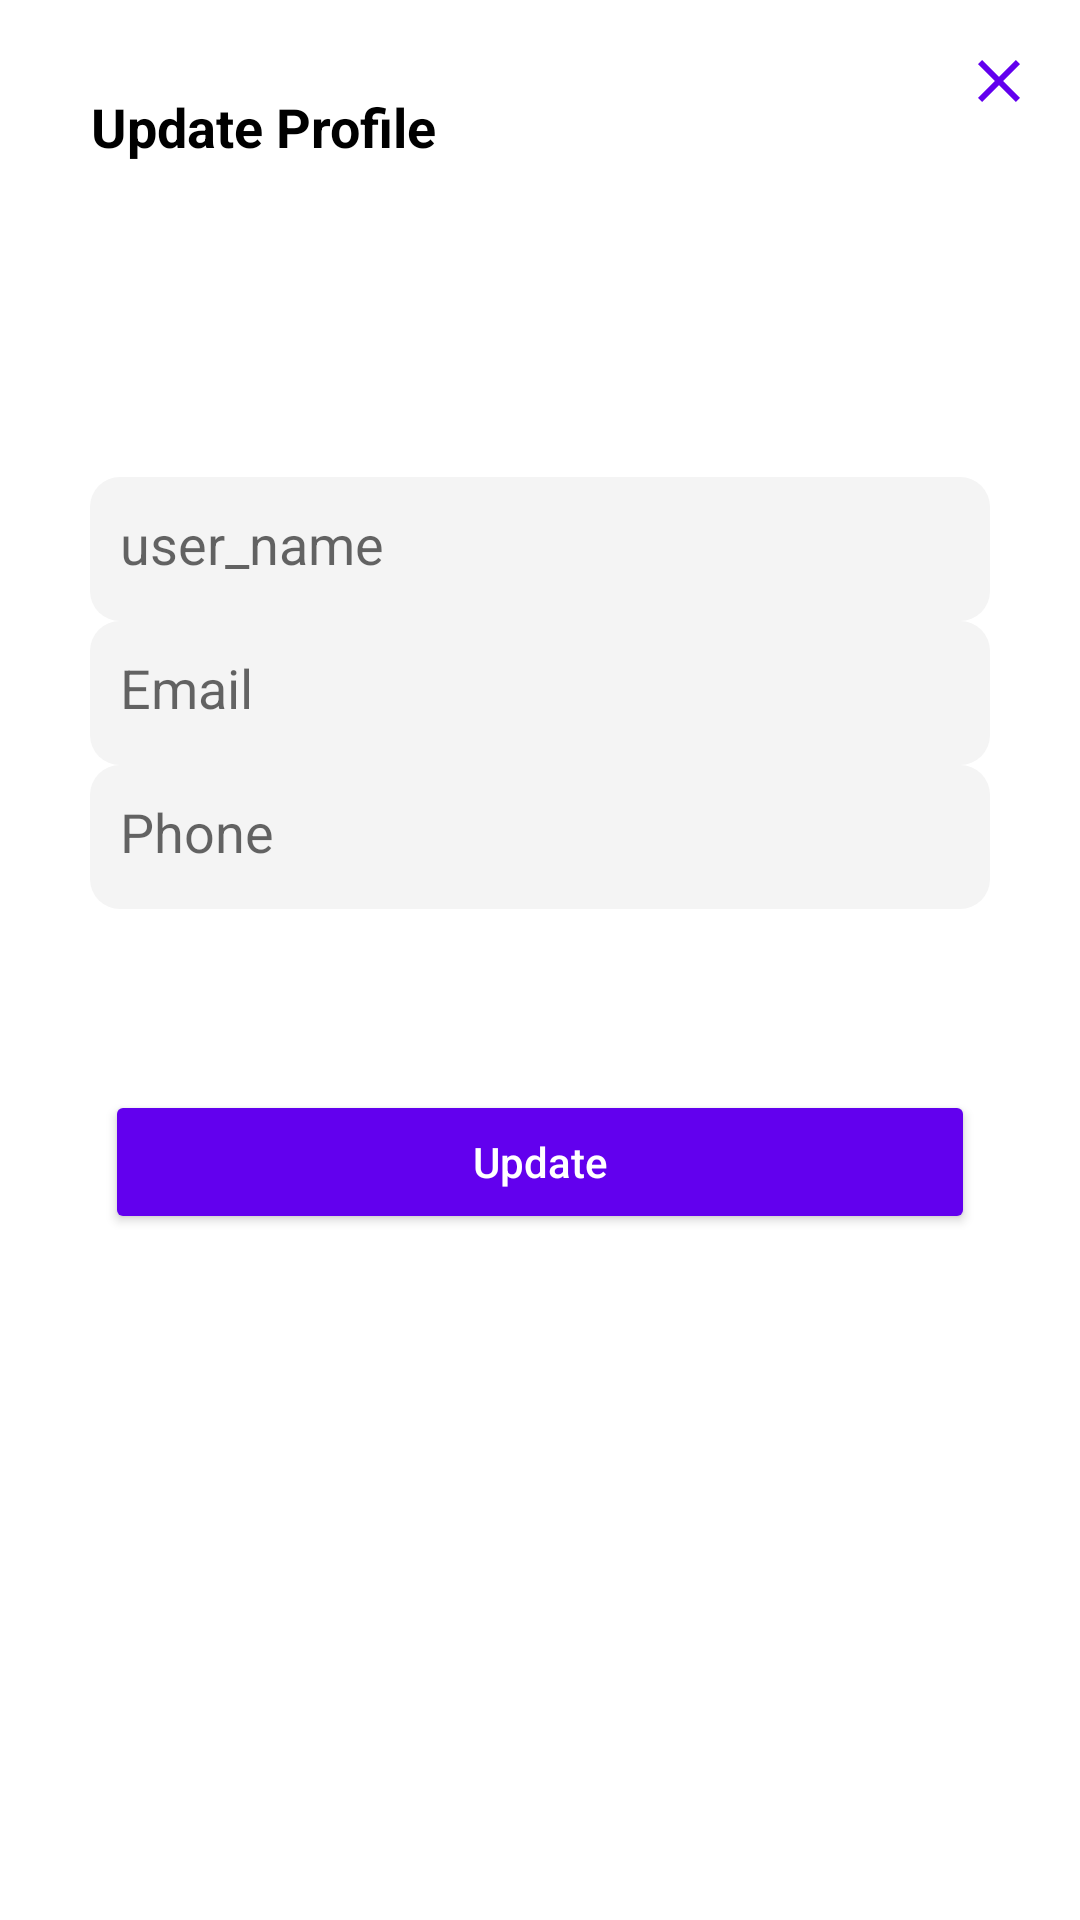

Icons on this 1080 × 1920 Android screen, each with the point to tap as (x,y):
close: (999,81)
